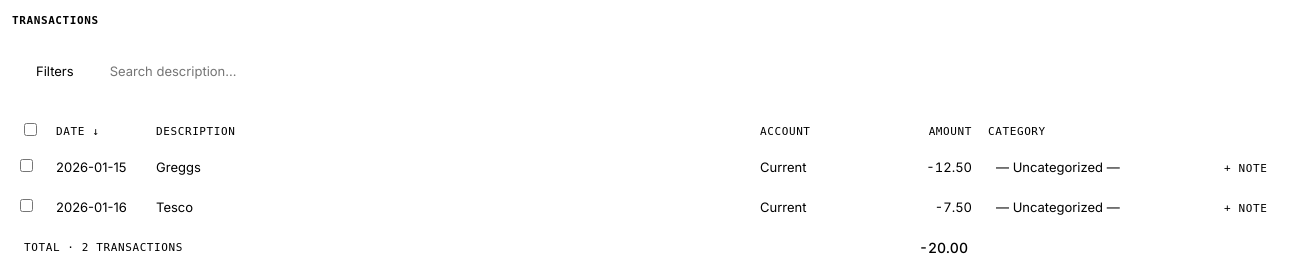
Test: ledger controls card › clearing the selection gives the search box back
Click the checkbox named "Select Greggs" at (26, 166), box left=20, top=159, right=33, bottom=172
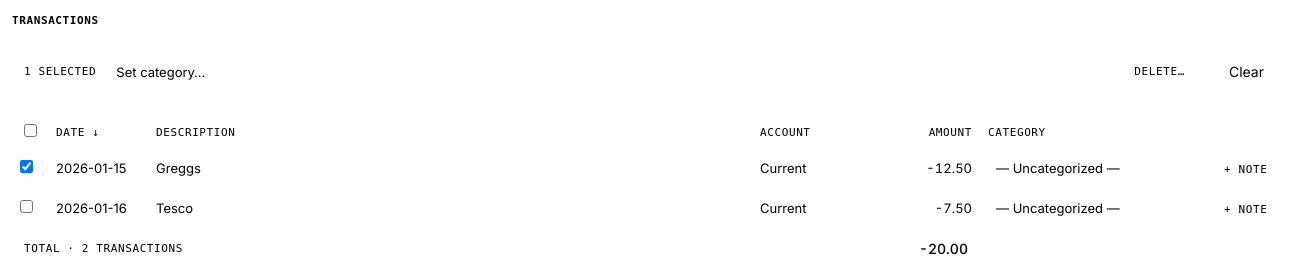
Click the button "Clear" at (1246, 72), box left=1213, top=55, right=1280, bottom=88
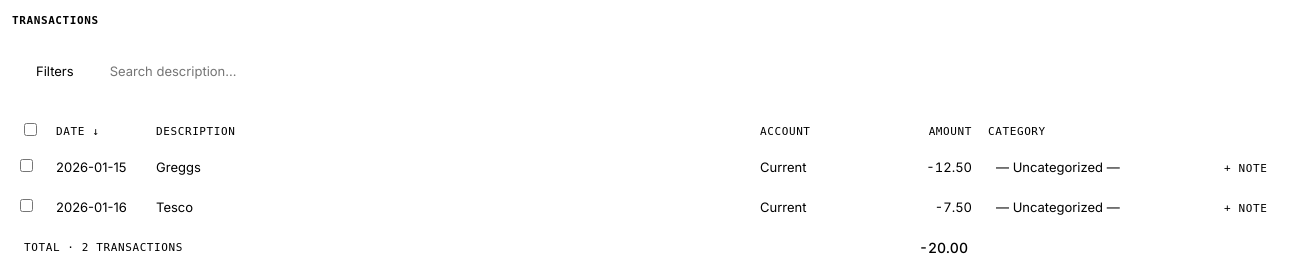
Check: the field with placeholder "Search description…" is shown, box left=98, top=55, right=1280, bottom=87
Check: the text "1 selected" is gone
